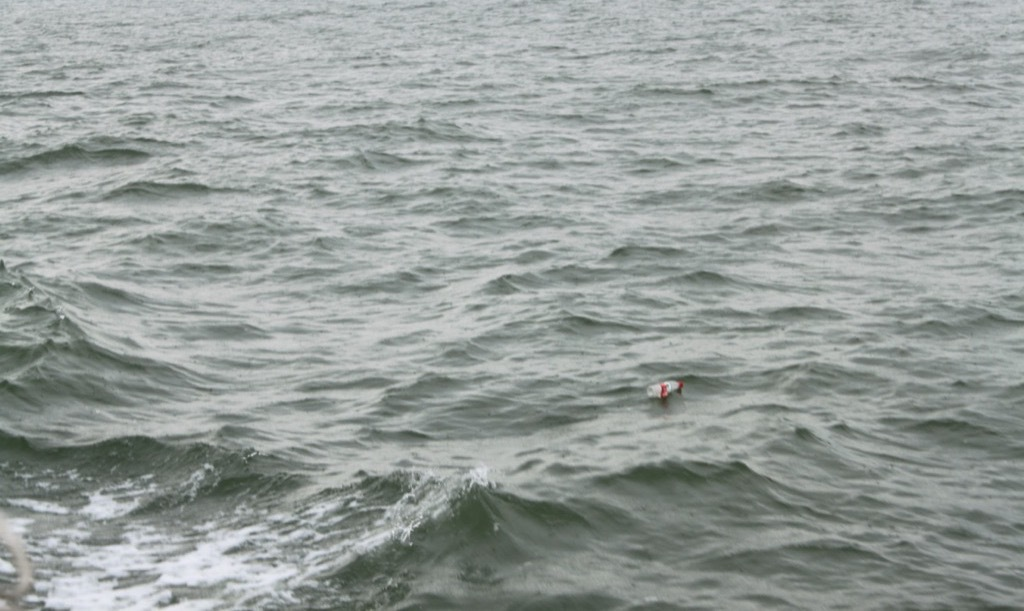plastic: (630, 362, 703, 416)
